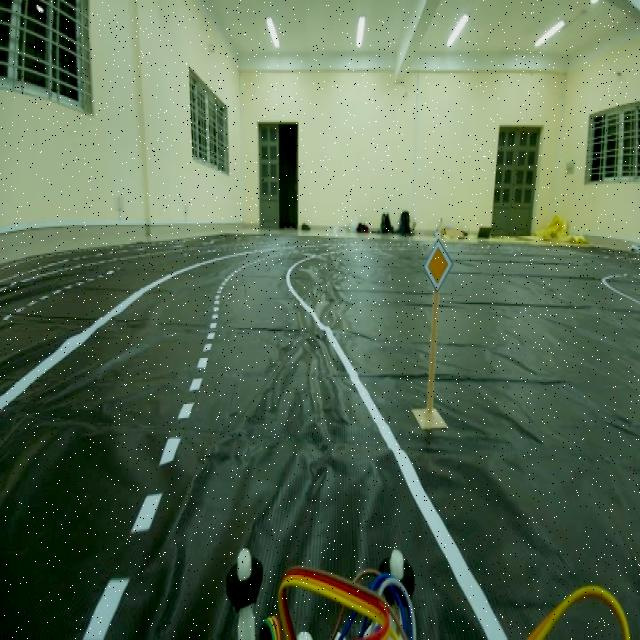priority: (416, 231, 459, 303)
